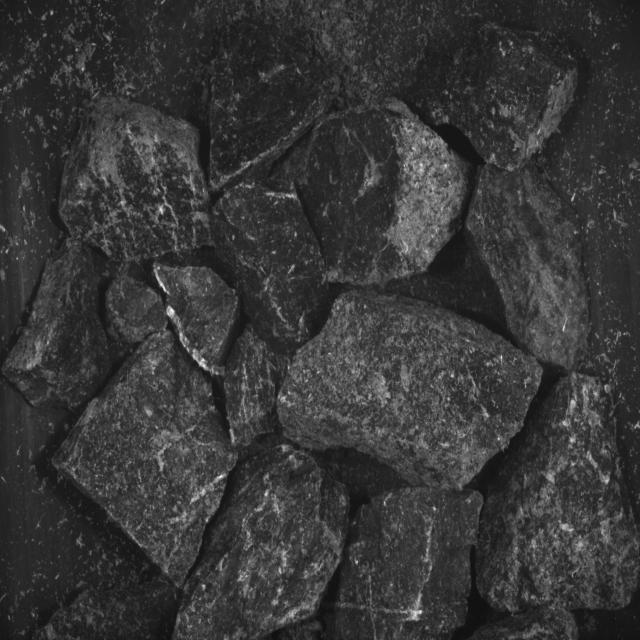Stones: (279, 292, 542, 490), (54, 332, 237, 586), (477, 374, 640, 613), (175, 447, 350, 640), (297, 101, 472, 286), (466, 166, 591, 371), (60, 99, 211, 262), (329, 488, 484, 640), (210, 22, 337, 192), (214, 183, 329, 357), (449, 26, 579, 172), (4, 240, 111, 411), (155, 264, 240, 378), (225, 327, 277, 449), (106, 276, 169, 344), (471, 609, 579, 640)
